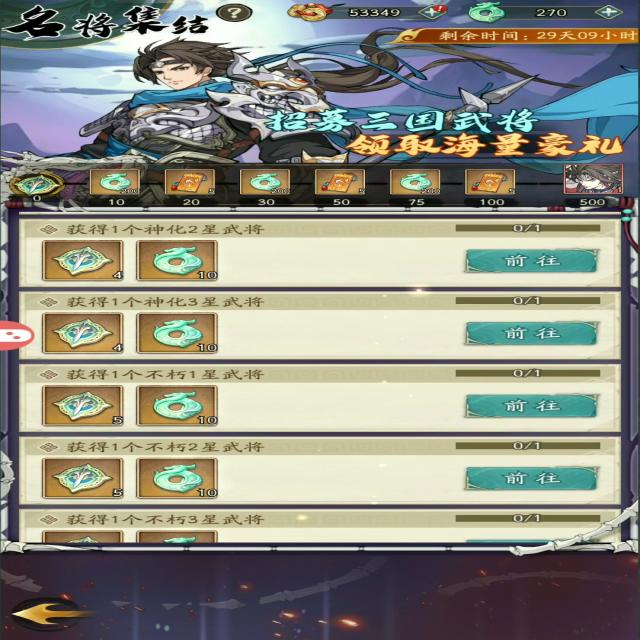hint-reddot: (432, 3, 453, 17)
operation-back: (8, 600, 94, 634)
operation-buy: (458, 323, 598, 349), (456, 251, 601, 276), (462, 396, 602, 420), (460, 466, 594, 488)
operation-rule: (196, 5, 258, 22)
ref-buytext: (38, 361, 274, 384), (36, 292, 277, 312), (52, 439, 278, 458), (44, 221, 282, 237), (36, 512, 272, 526)
